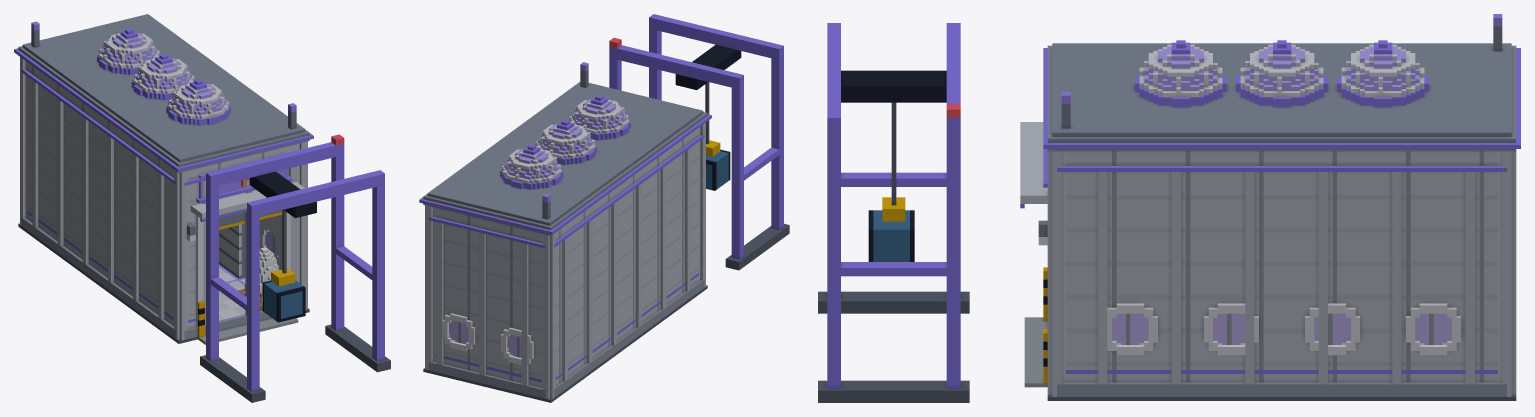
File: workshop_e5_l3.glb
3 views of the same model, side by side, from view 1: azimuth 30°, elevation 25°; view 2: azimuth 150°, elevation 25°; view 3: azimuth 270°, elevation 25° (orthographic). The views are drawn at different scales.
Visible parts, largest first — view 1: Base, CutRoof, CutNX, CutPZ, CutNZ, CutPX; view 2: CutRoof, Base, CutNX, CutNZ, CutPZ; view 3: CutPX, CutRoof, Base, CutPZ, CutNZ.
Boxes of the visible parts, <box> form: Base: <box>18,134,390,402</box>; CutRoof: <box>14,14,313,172</box>; CutNX: <box>21,62,175,308</box>; CutPZ: <box>174,141,307,314</box>; CutNZ: <box>20,57,27,201</box>; CutPX: <box>259,215,278,265</box>; CutRoof: <box>419,62,711,235</box>; Base: <box>423,14,789,402</box>; CutNX: <box>554,128,704,368</box>; CutNZ: <box>425,205,555,374</box>; CutPZ: <box>699,123,705,263</box>; CutPX: <box>1057,151,1506,359</box>; CutRoof: <box>1043,14,1520,151</box>; Base: <box>818,23,1516,402</box>; CutPZ: <box>1020,122,1065,359</box>; CutNZ: <box>1498,151,1516,359</box>.
Bounding box in the file's own units: 5.1 × 7.5 × 15.3.
